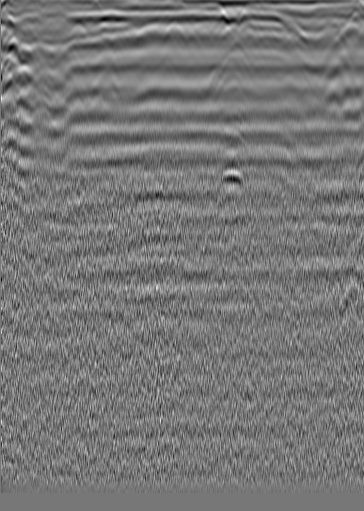가스: (211, 165, 244, 197)
상수: (286, 27, 306, 47)
오수: (26, 39, 46, 59)
우수: (163, 20, 183, 40)
